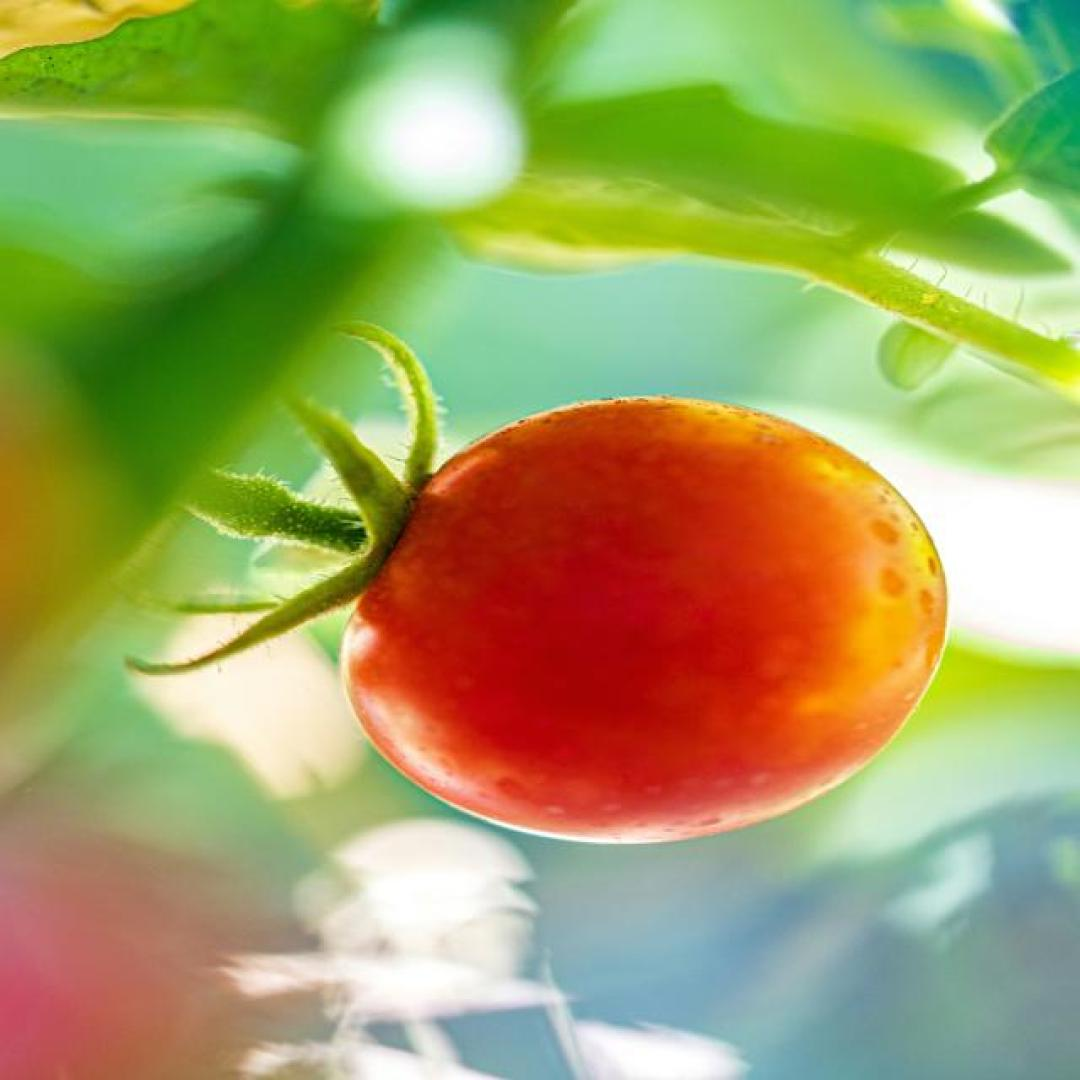matang: (336, 395, 950, 845)
